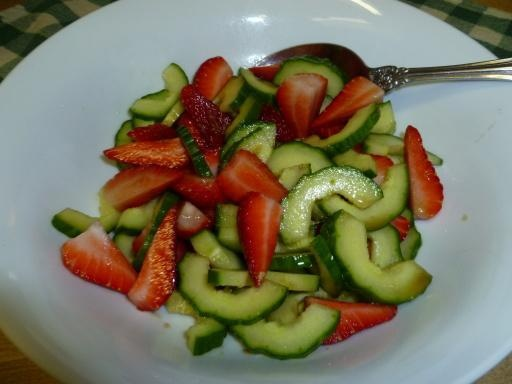background: (40, 32, 355, 215)
